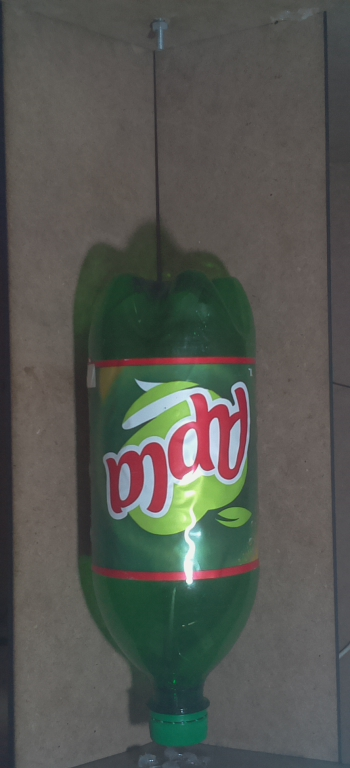Bouteille_1L: (74, 266, 271, 758)
